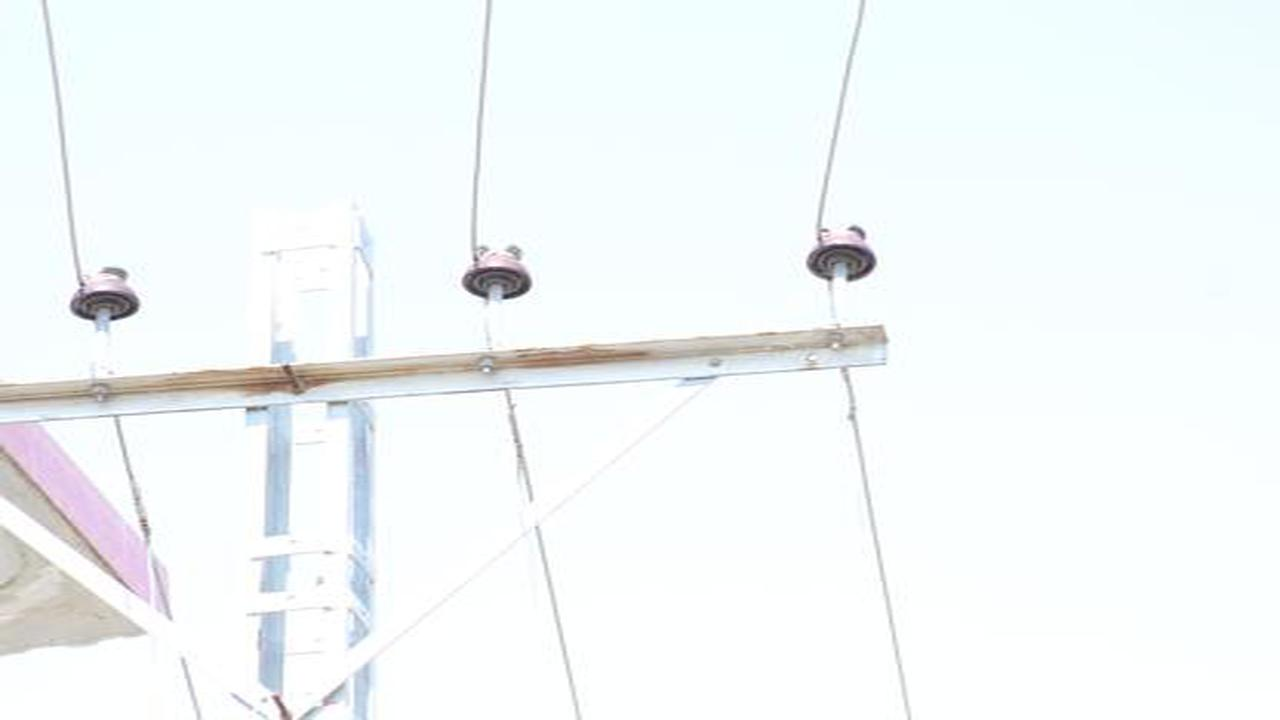insulator_pin: (457, 242, 537, 306), (802, 222, 880, 285), (69, 262, 144, 322)
